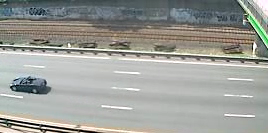car: (8, 75, 50, 95)
